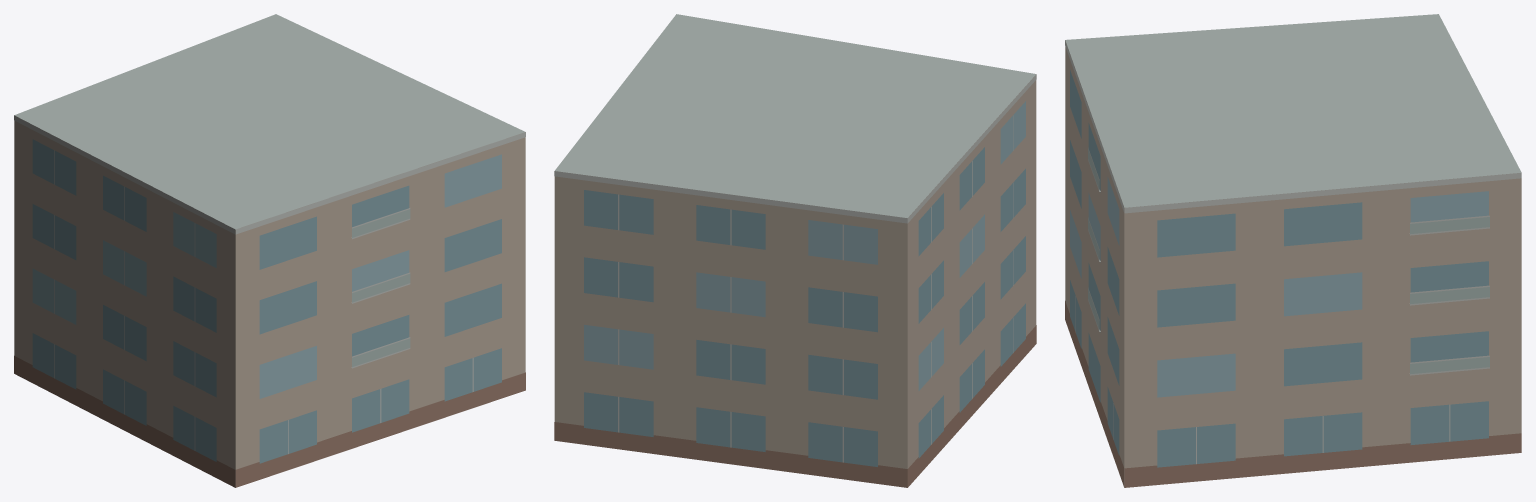
Rendered from residential-d0d5785f-249c-44e0-8e67-8a53c5f12650.glb.
The picture shows the model from 3 angles, left to right: view 1: azimuth 30°, elevation 25°; view 2: azimuth 150°, elevation 25°; view 3: azimuth 270°, elevation 25°; orthographic projection. The views are drawn at different scales.
Visible parts, largest first — view 1: residential-d0d5785f-249c-44e0-8e67-8a53c5f12650.tmp; view 2: residential-d0d5785f-249c-44e0-8e67-8a53c5f12650.tmp; view 3: residential-d0d5785f-249c-44e0-8e67-8a53c5f12650.tmp.
Part boxes in pixels (x1=…): residential-d0d5785f-249c-44e0-8e67-8a53c5f12650.tmp: x1=14, y1=14, x2=525, y2=487; residential-d0d5785f-249c-44e0-8e67-8a53c5f12650.tmp: x1=554, y1=14, x2=1036, y2=487; residential-d0d5785f-249c-44e0-8e67-8a53c5f12650.tmp: x1=1065, y1=14, x2=1521, y2=487.
Bounding box in the file's own units: 18.12 × 12.2 × 18.03.
